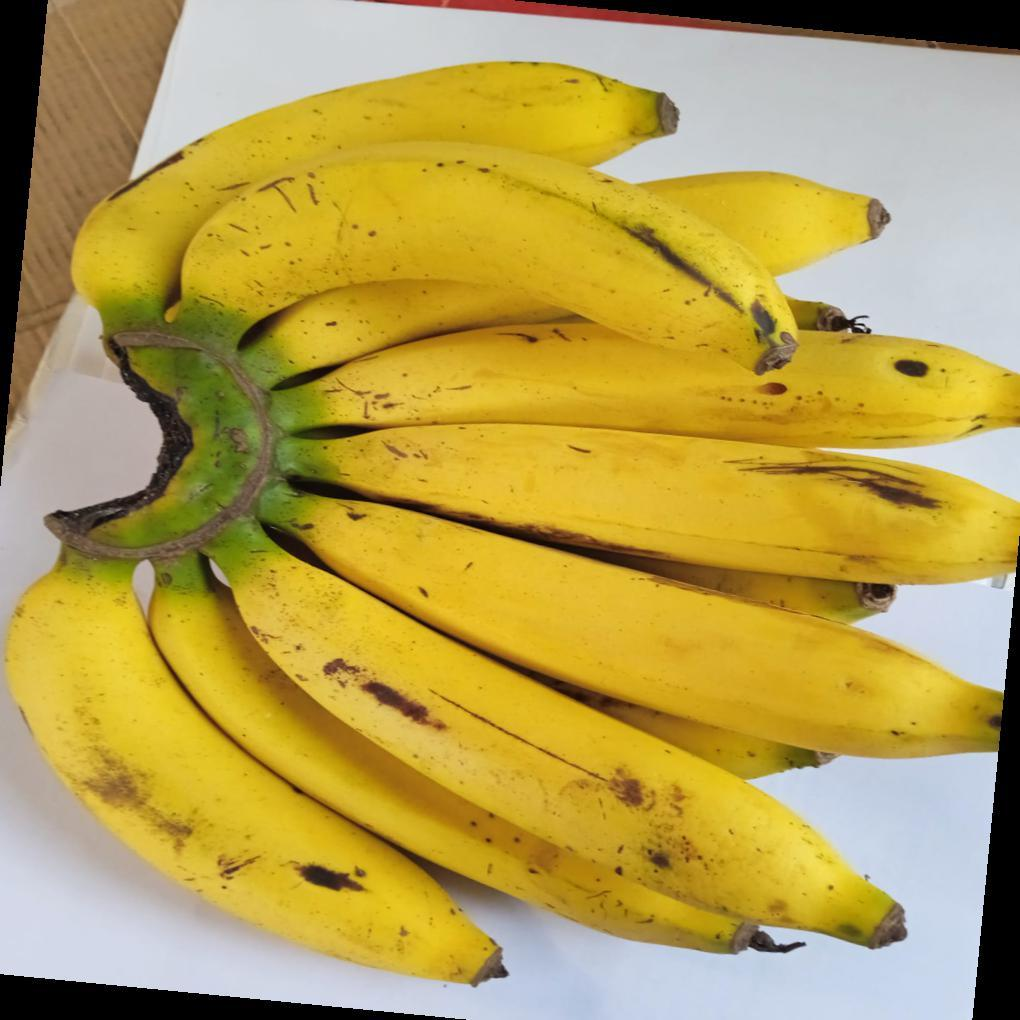Banana Ripe: (26, 53, 1020, 1020), (0, 464, 926, 1020), (79, 40, 1020, 444), (242, 379, 1020, 834)
